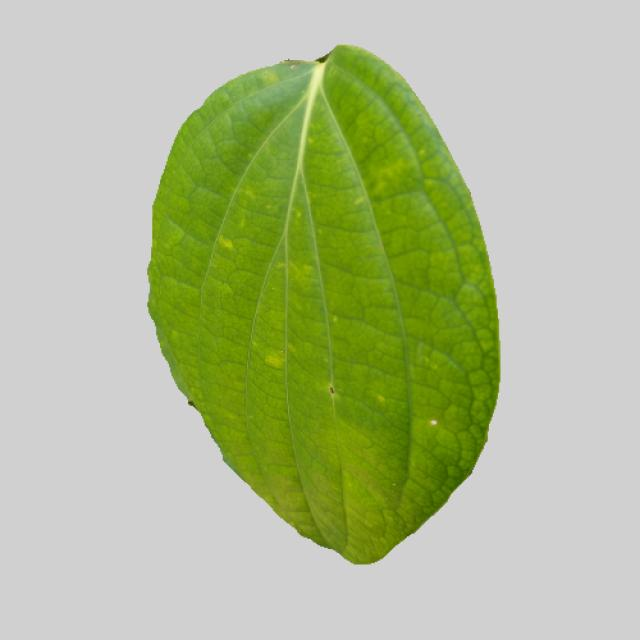healthy: (150, 42, 508, 573)
